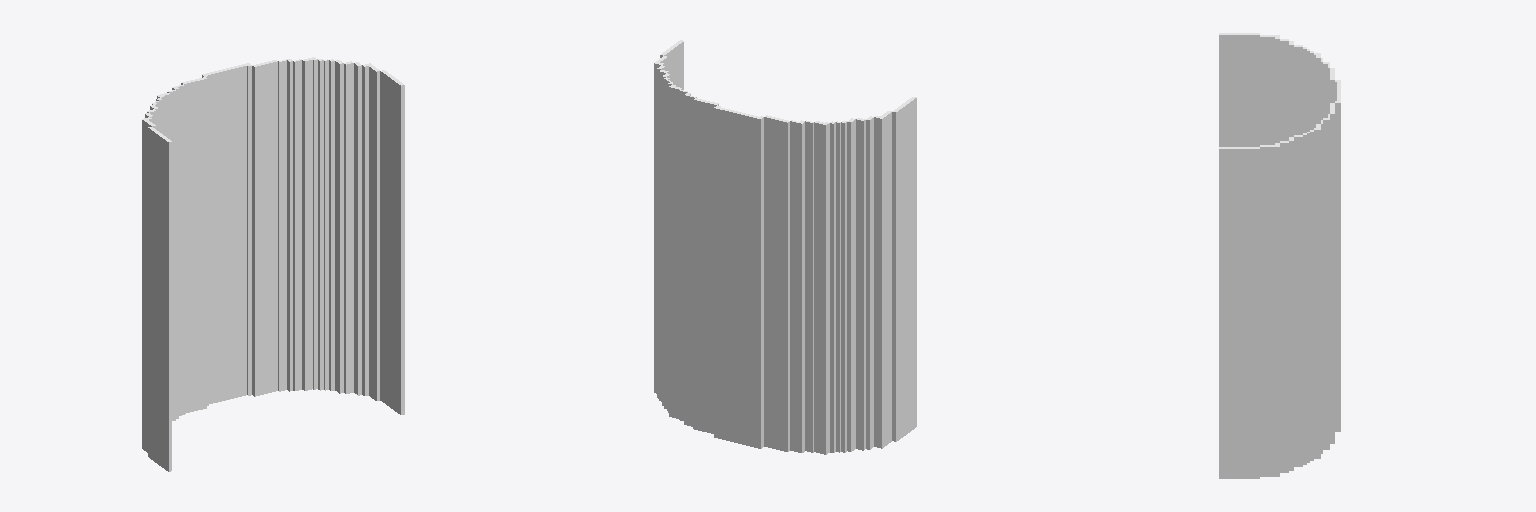
The model's file is tubeRoad.obj.
3 views of the same model, side by side, from view 1: azimuth 30°, elevation 25°; view 2: azimuth 150°, elevation 25°; view 3: azimuth 270°, elevation 25° (orthographic).
Visible parts, largest first — view 1: object 1; view 2: object 1; view 3: object 1.
Part boxes in pixels (left/top/right/bottom): object 1: left=142, top=57, right=404, bottom=471; object 1: left=654, top=40, right=916, bottom=454; object 1: left=1219, top=33, right=1340, bottom=478.
Bounding box in the file's own units: 12 × 16 × 5.4.